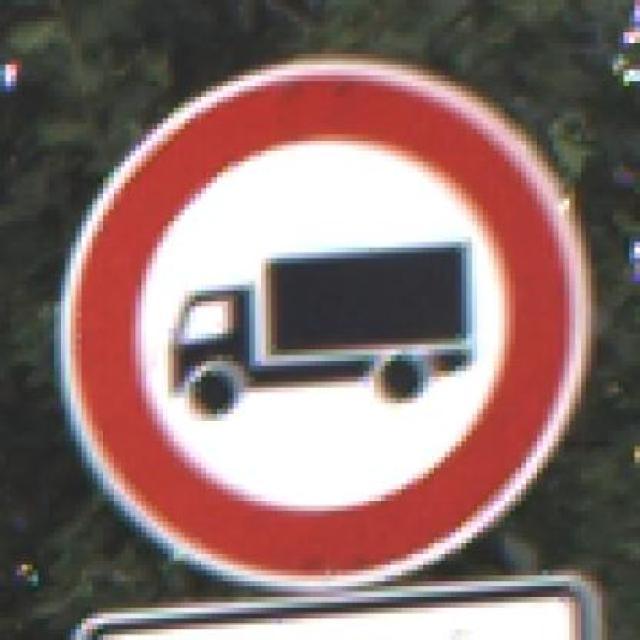Truck traffic is prohibited: (55, 42, 602, 602)
